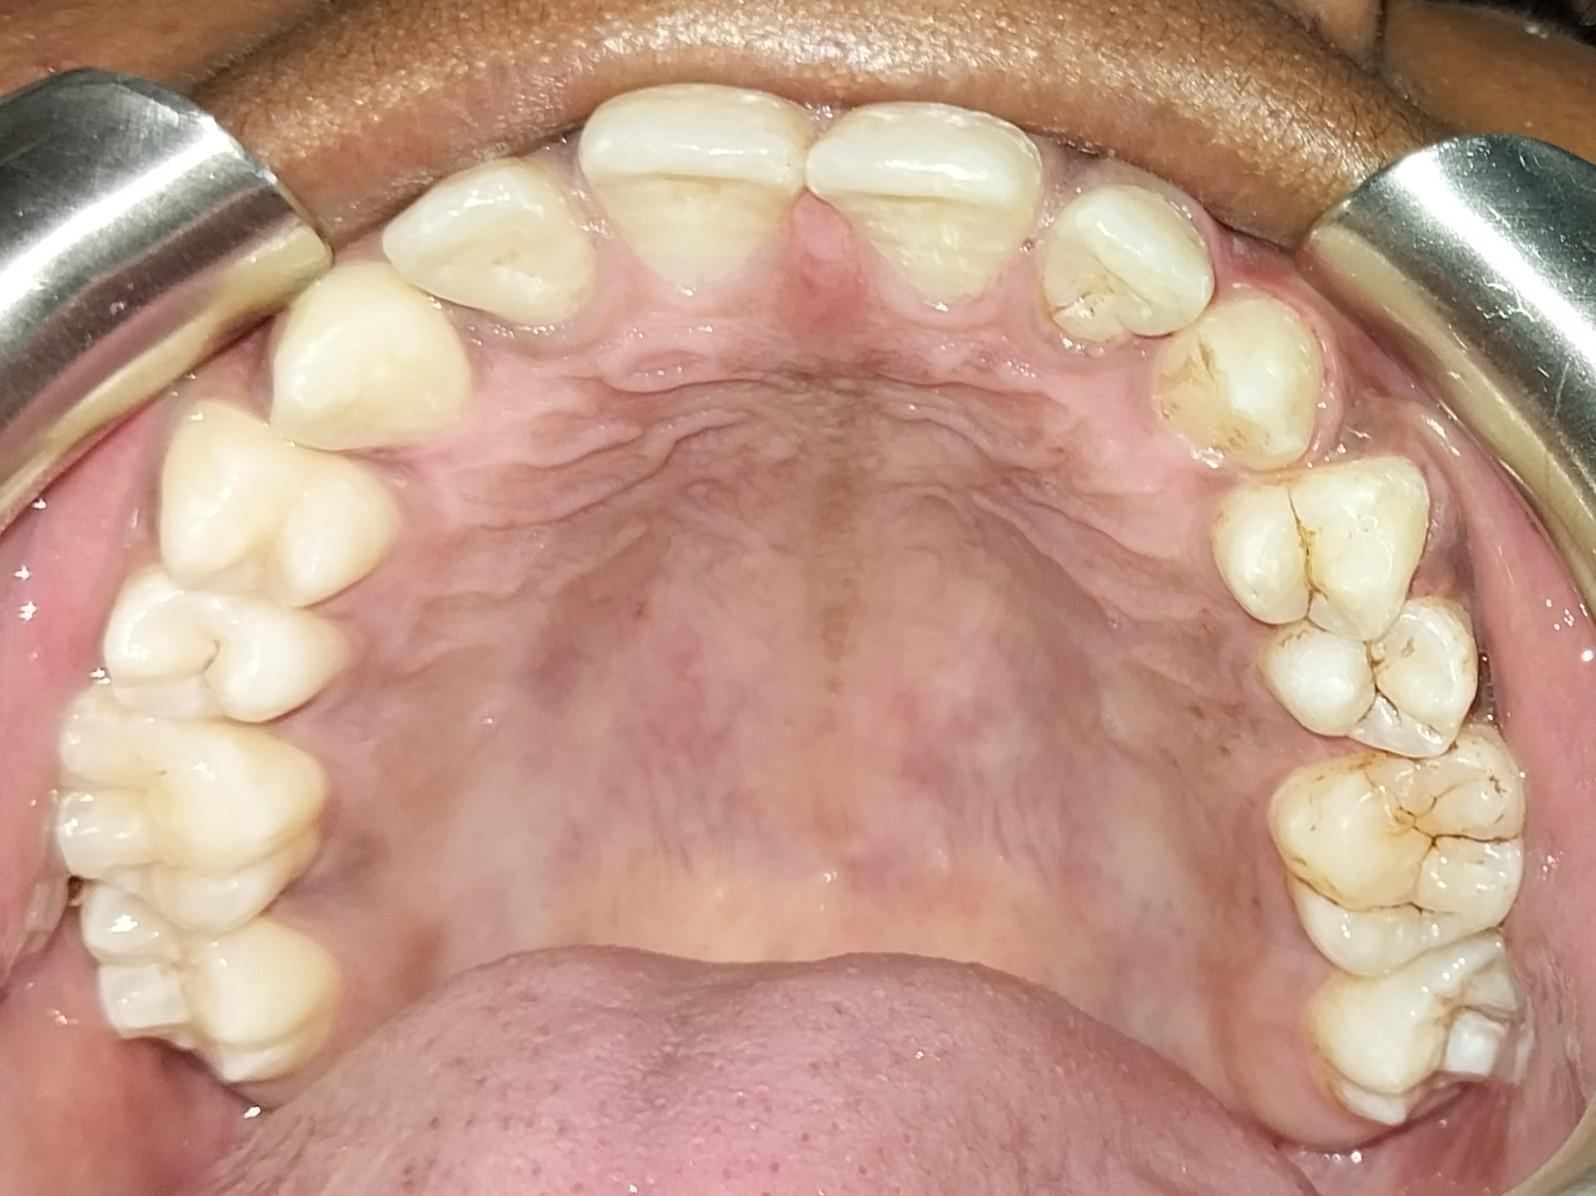D: (1278, 765, 1515, 965), (1274, 608, 1466, 750)
